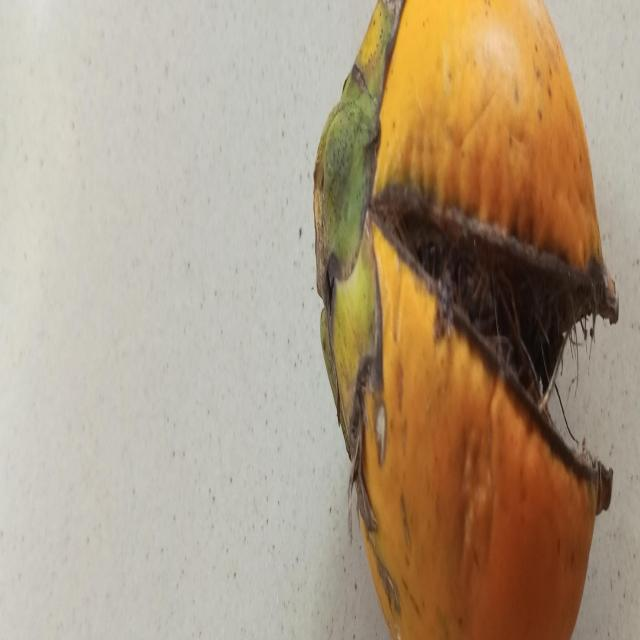damaged: (313, 0, 619, 640)
